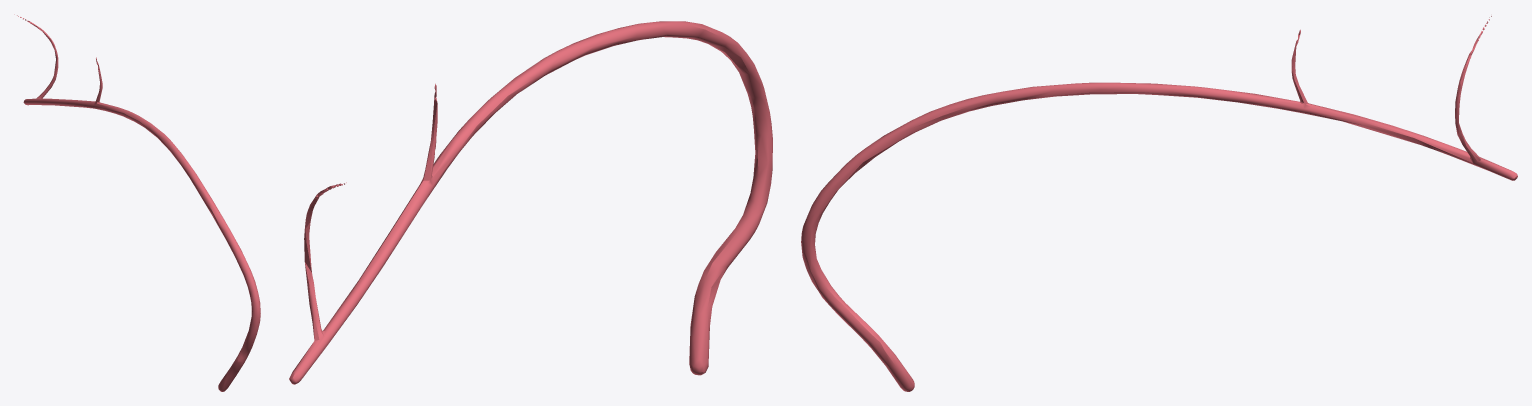
The model's file is fma50359_fj1699.glb.
The picture shows the model from 3 angles, left to right: view 1: azimuth 30°, elevation 25°; view 2: azimuth 150°, elevation 25°; view 3: azimuth 270°, elevation 25°; orthographic projection. The views are drawn at different scales.
Visible parts, largest first — view 1: FMA50359_FJ1699; view 2: FMA50359_FJ1699; view 3: FMA50359_FJ1699.
Boxes of the visible parts, x1,y1,x2,y2 form: FMA50359_FJ1699: (14,14,260,391); FMA50359_FJ1699: (289,21,772,384); FMA50359_FJ1699: (801,16,1517,391).
Bounding box in the file's own units: 0.00587 × 0.0417 × 0.0742.
